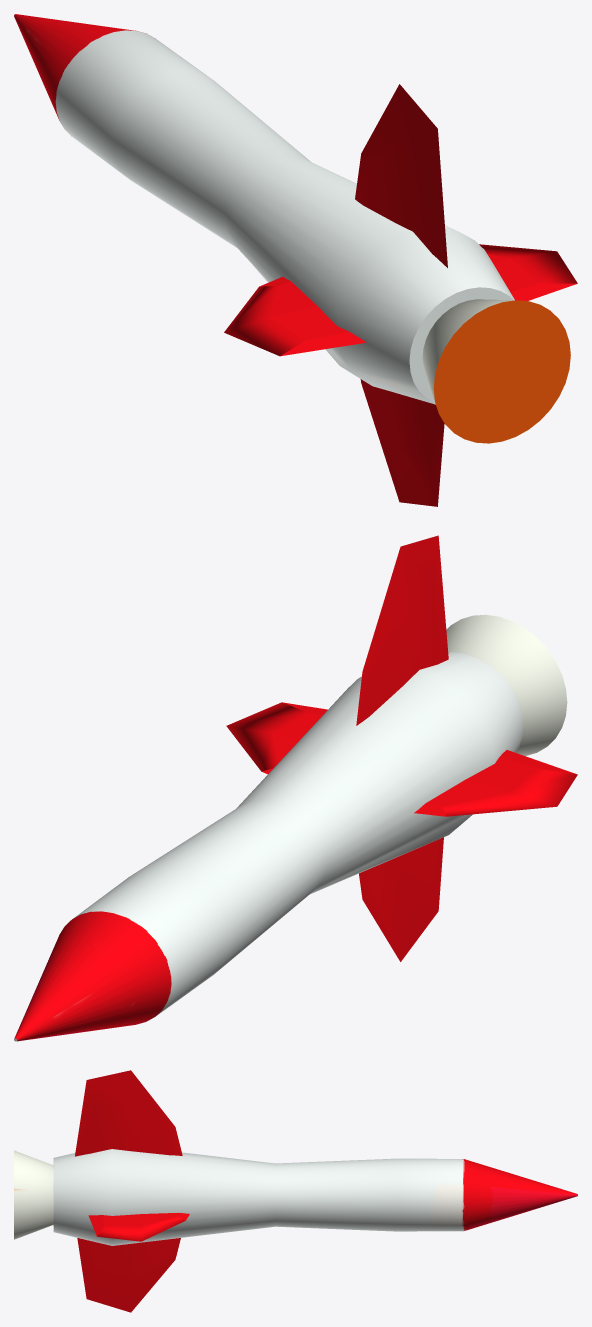
File: missileEx.fbx
3 renders of one model, top to bottom at view 1: azimuth 30°, elevation 25°; view 2: azimuth 150°, elevation 25°; view 3: azimuth 270°, elevation 25°, orthographic. The views are drawn at different scales.
Visible parts, largest first — view 1: body, fins, thruster; view 2: body, fins, thruster; view 3: body, fins, thruster.
Part boxes in pixels (left/top/right/bottom): body: left=14, top=14, right=514, bottom=404; fins: left=224, top=84, right=577, bottom=506; thruster: left=422, top=299, right=570, bottom=443; body: left=14, top=652, right=522, bottom=1041; fins: left=226, top=535, right=577, bottom=961; thruster: left=446, top=614, right=567, bottom=755; body: left=53, top=1149, right=577, bottom=1245; fins: left=75, top=1070, right=189, bottom=1312; thruster: left=14, top=1150, right=53, bottom=1239.
Bounding box in the file's own units: 378 × 453 × 955.
Materials: 3 (3 with a texture image).
